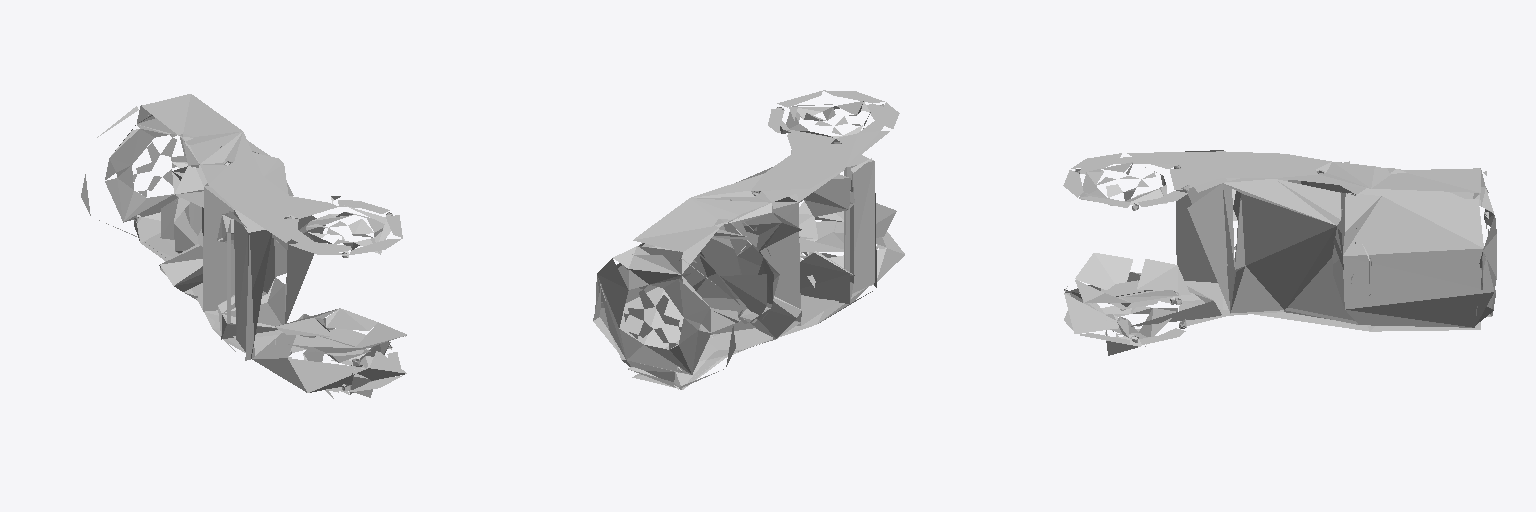
The picture shows the model from 3 angles: view 1: azimuth 30°, elevation 25°; view 2: azimuth 150°, elevation 25°; view 3: azimuth 270°, elevation 25°; orthographic projection.
Visible parts, largest first — view 1: link3_2; view 2: link3_2; view 3: link3_2.
Part boxes in pixels (left/top/right/bottom): link3_2: left=81, top=94, right=406, bottom=398; link3_2: left=593, top=90, right=904, bottom=389; link3_2: left=1063, top=150, right=1496, bottom=355.
Size of the model in its own units: 71.12 by 81.58 by 186.